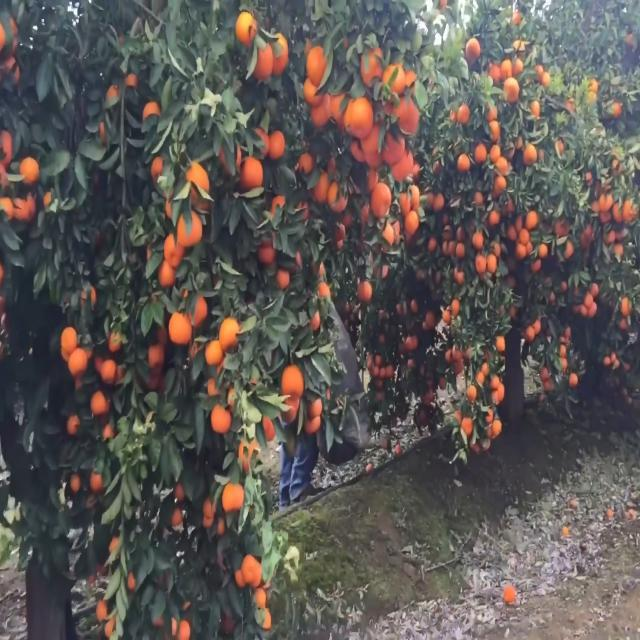Jeruk Sudah Matang: (348, 85, 378, 146), (160, 265, 195, 316), (278, 350, 308, 398), (205, 398, 239, 440), (248, 32, 274, 84), (378, 128, 411, 168), (172, 204, 205, 243), (240, 150, 266, 199), (306, 38, 331, 88), (217, 309, 244, 352), (238, 548, 266, 588), (219, 482, 248, 520), (268, 26, 290, 76), (167, 306, 194, 346), (65, 342, 93, 380), (366, 182, 394, 220), (326, 170, 350, 214), (162, 232, 190, 268), (99, 354, 122, 392), (234, 8, 258, 43), (312, 162, 330, 204), (268, 123, 286, 162), (58, 321, 78, 356), (296, 146, 314, 184), (205, 332, 224, 367), (20, 156, 39, 187)
